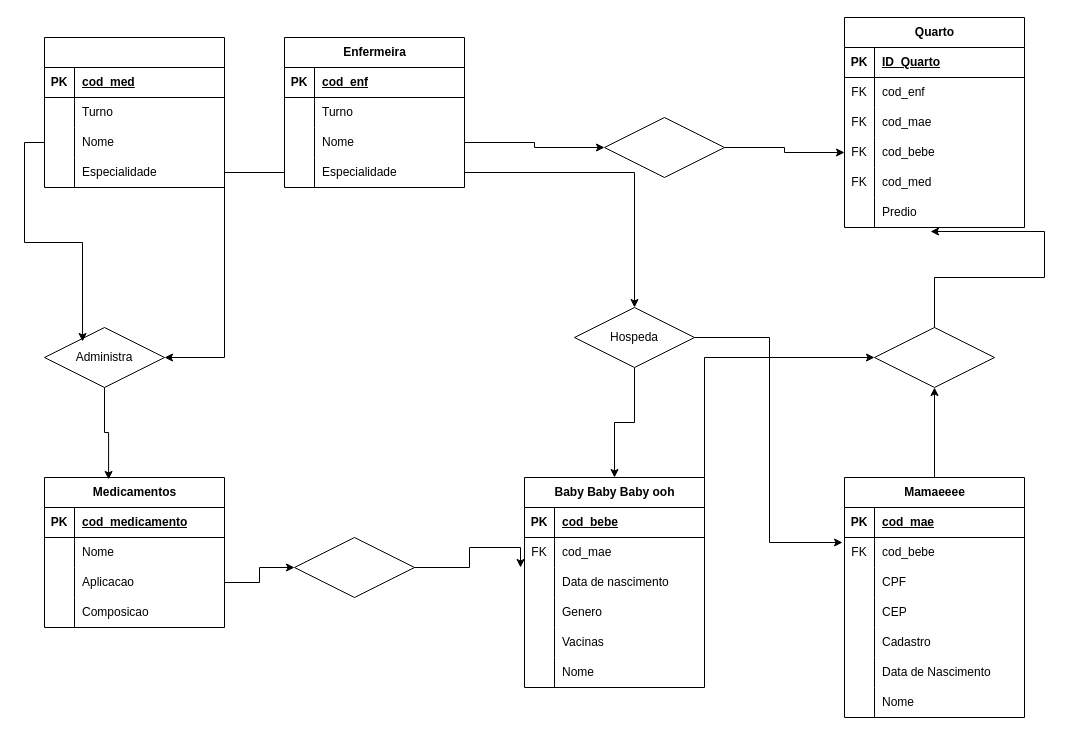
Some shapes in this 1070 by 735 pixel diagram are drawn without their labels. Each missing label, with the box of its shape:
Atende: (604, 116, 724, 178)
E aplicado em: (294, 536, 414, 598)
Medico: (44, 36, 224, 188)
Sao hospedados em: (874, 326, 994, 388)
